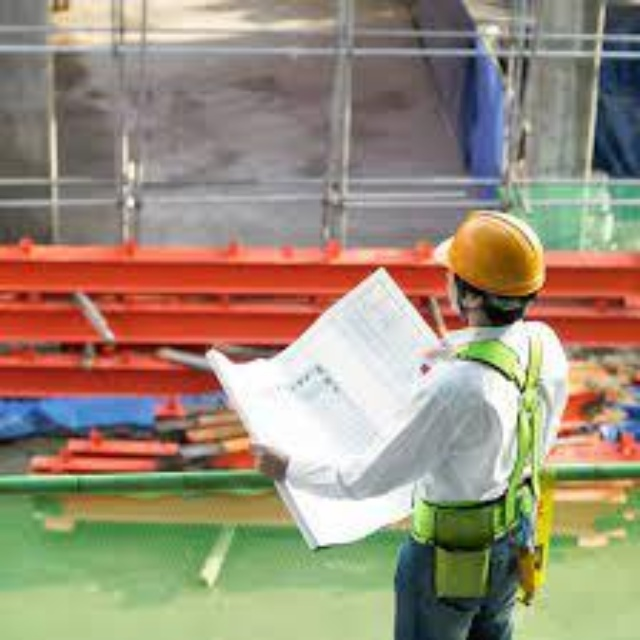Arnes_seguridad: (414, 327, 560, 622)
